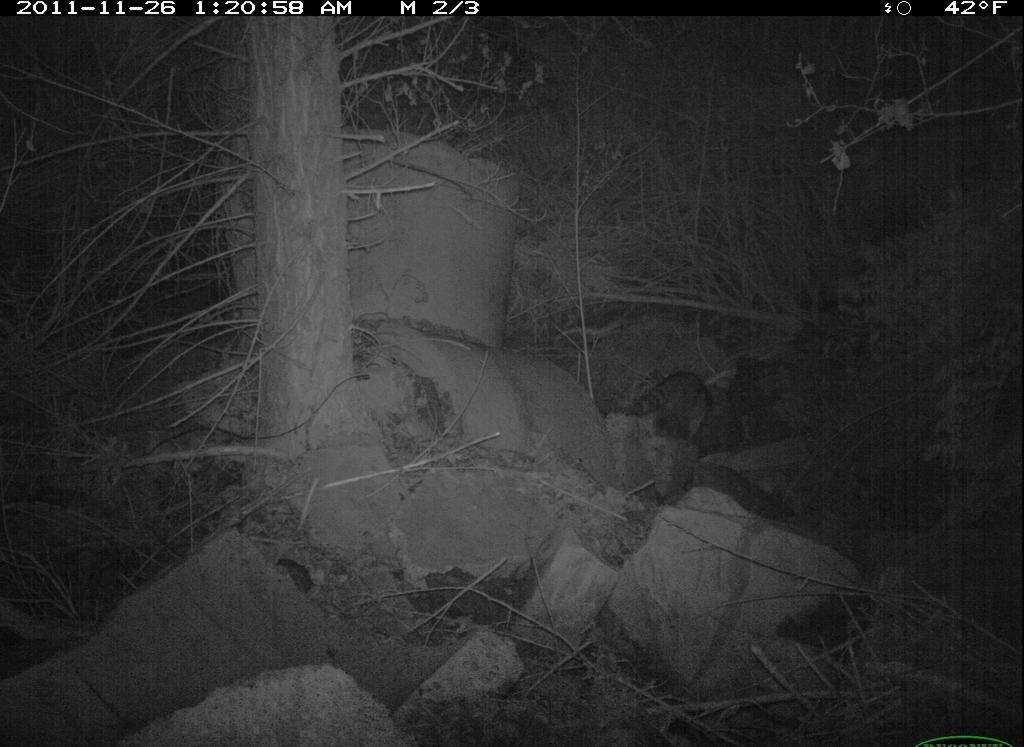raccoon: (625, 360, 729, 460)
